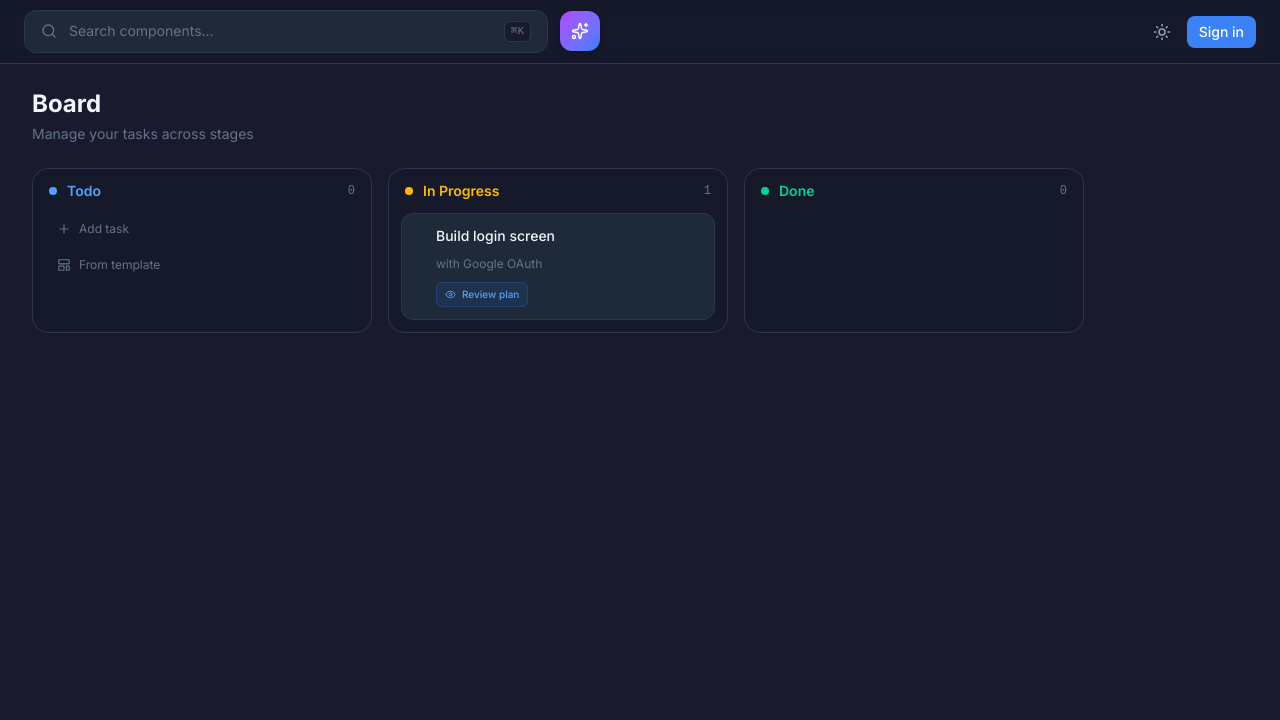
BoardPage Re-plan button › renders the Re-plan button when status is awaiting_approval
The image size is (1280, 720).
Click the heading "Build login screen": (496, 236) x1=436 y1=226 x2=555 y2=245
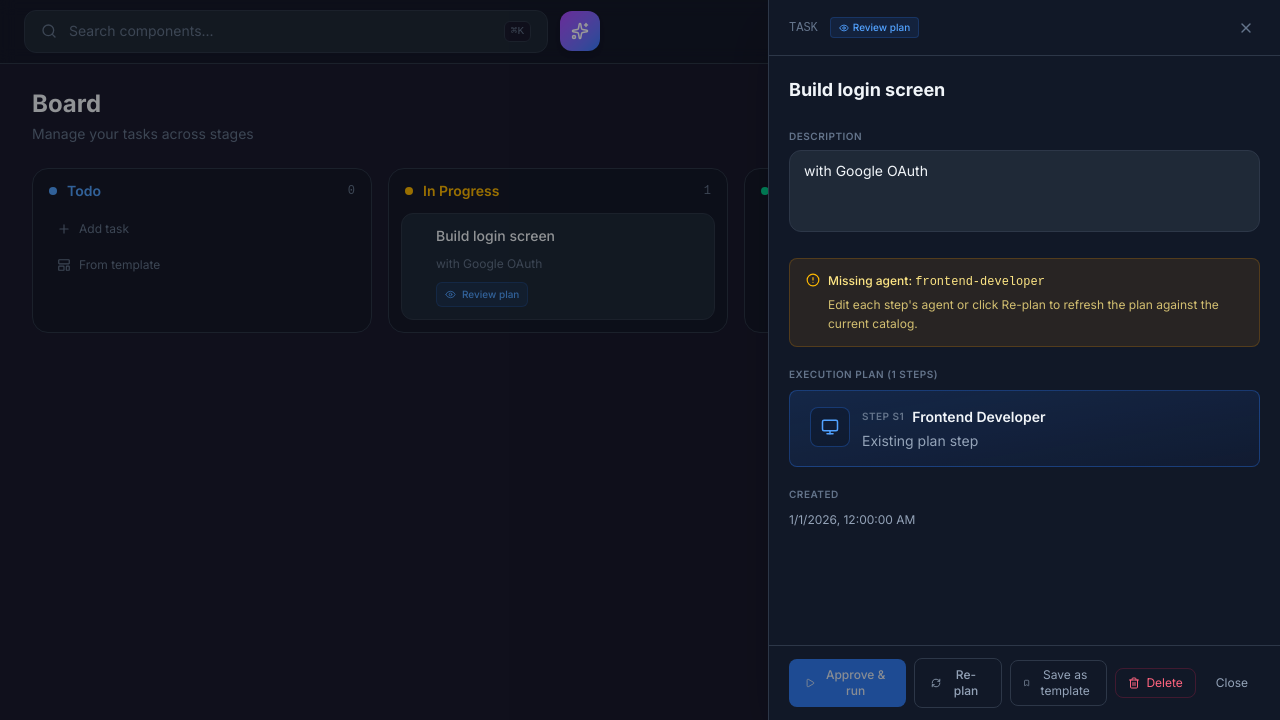
Result: the text "TASK" is shown at x1=789 y1=20 x2=818 y2=36
Result: the button "Re-plan" is shown at x1=914 y1=658 x2=1002 y2=708
